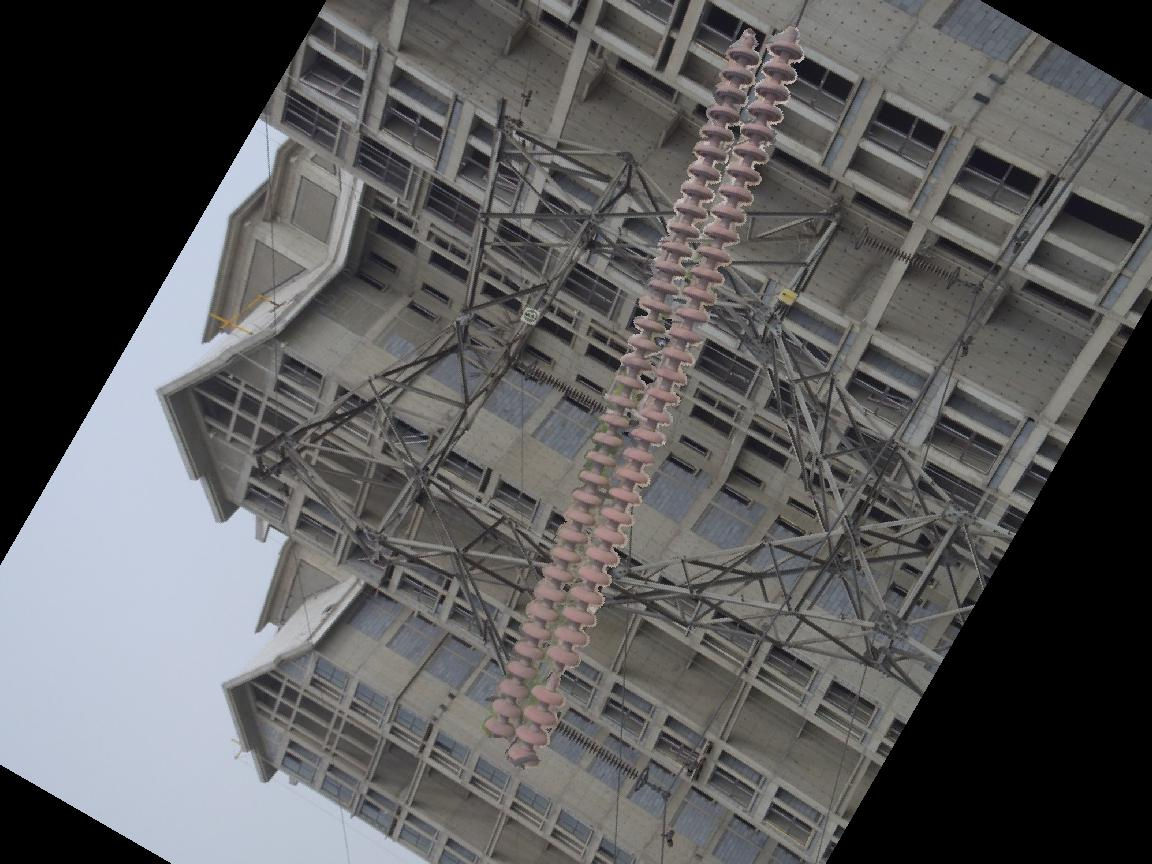insulator: (475, 31, 811, 769), (549, 719, 643, 784), (860, 232, 956, 285), (523, 359, 608, 417)
insulator_stringdrop: (527, 642, 584, 708)
